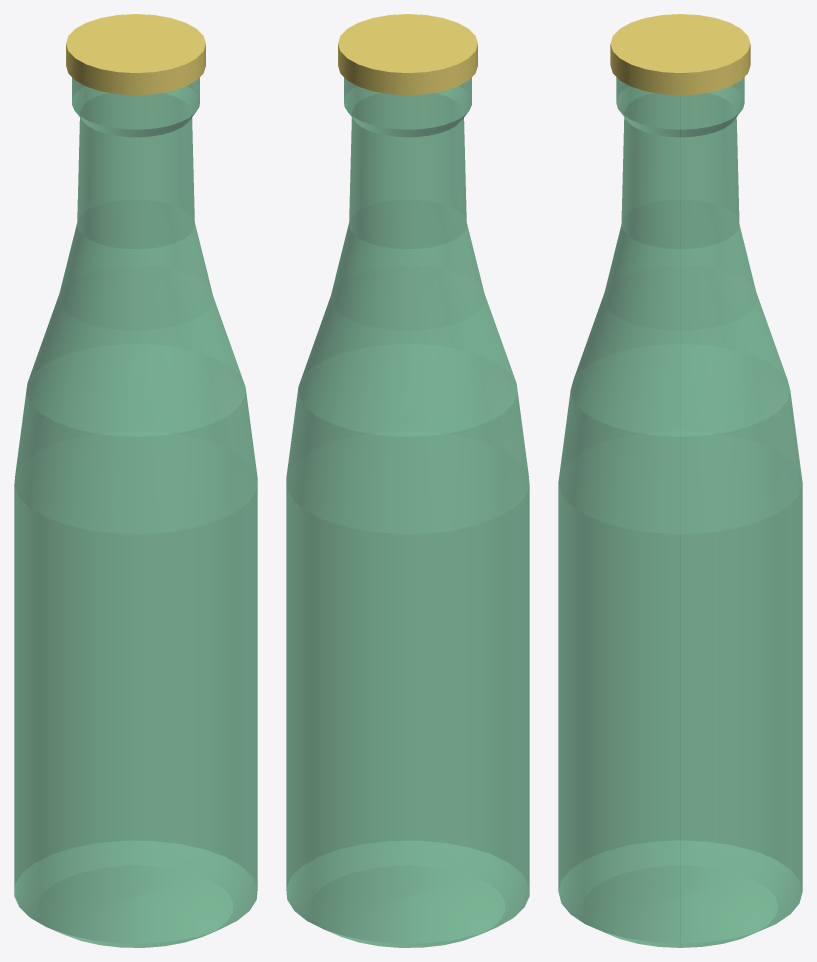
Rendered from botella_vidrio.glb.
The picture shows the model from 3 angles, left to right: view 1: azimuth 30°, elevation 25°; view 2: azimuth 150°, elevation 25°; view 3: azimuth 270°, elevation 25°; orthographic projection.
Visible parts, largest first — view 1: botella_vidrio_cuerpo, botella_vidrio_chapa; view 2: botella_vidrio_cuerpo, botella_vidrio_chapa; view 3: botella_vidrio_cuerpo, botella_vidrio_chapa.
Part boxes in pixels (x1=…): botella_vidrio_cuerpo: x1=14, y1=77, x2=257, y2=947; botella_vidrio_chapa: x1=66, y1=14, x2=205, y2=95; botella_vidrio_cuerpo: x1=286, y1=77, x2=529, y2=947; botella_vidrio_chapa: x1=338, y1=14, x2=477, y2=95; botella_vidrio_cuerpo: x1=558, y1=77, x2=802, y2=947; botella_vidrio_chapa: x1=610, y1=14, x2=750, y2=95.
Size of the model in its own units: 0.06 by 0.234 by 0.06.
